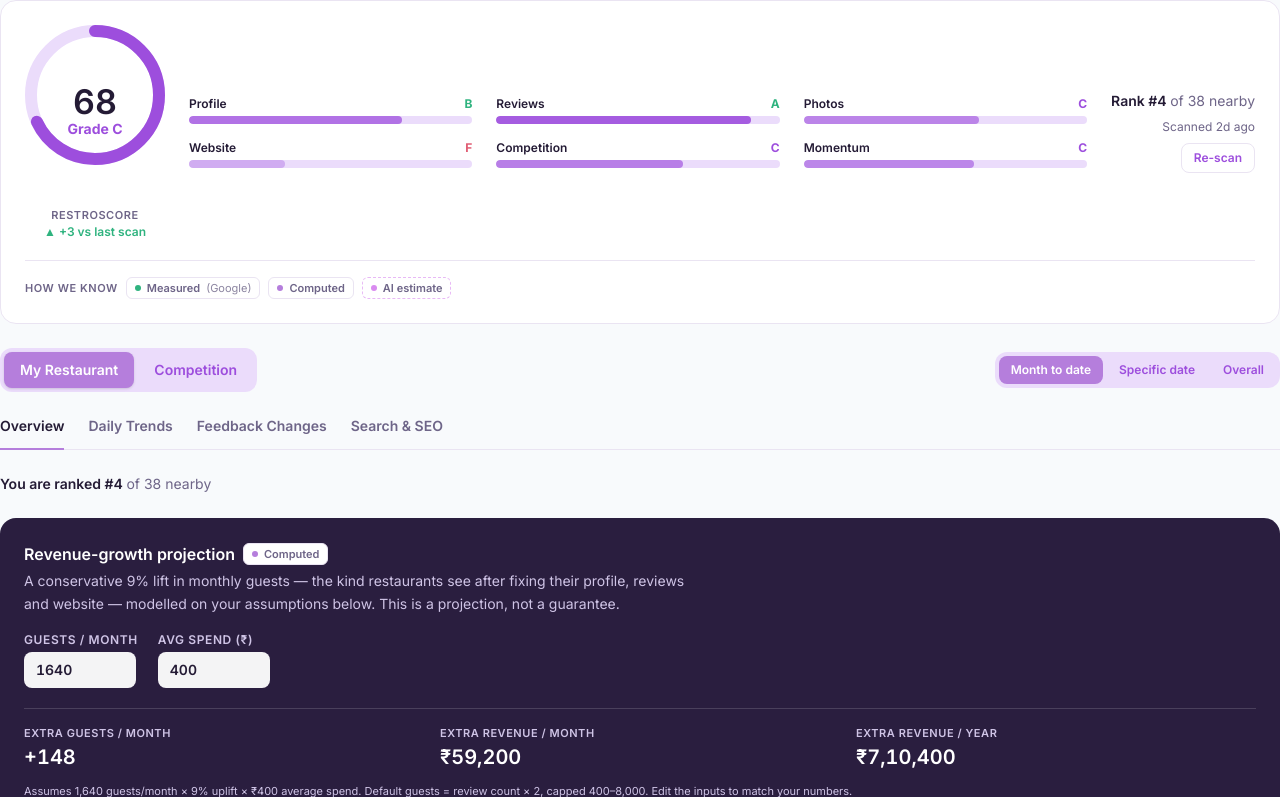
Test: IntelligenceV2 two-bucket dashboard › switching to the Competition bucket lands on Top Threats, then Watchlist is reachable
The image size is (1280, 797).
Check: the text "68" is shown, box [73,85,117,119]
Click the tab "Competition".
click(196, 370)  # box [138,352,253,388]
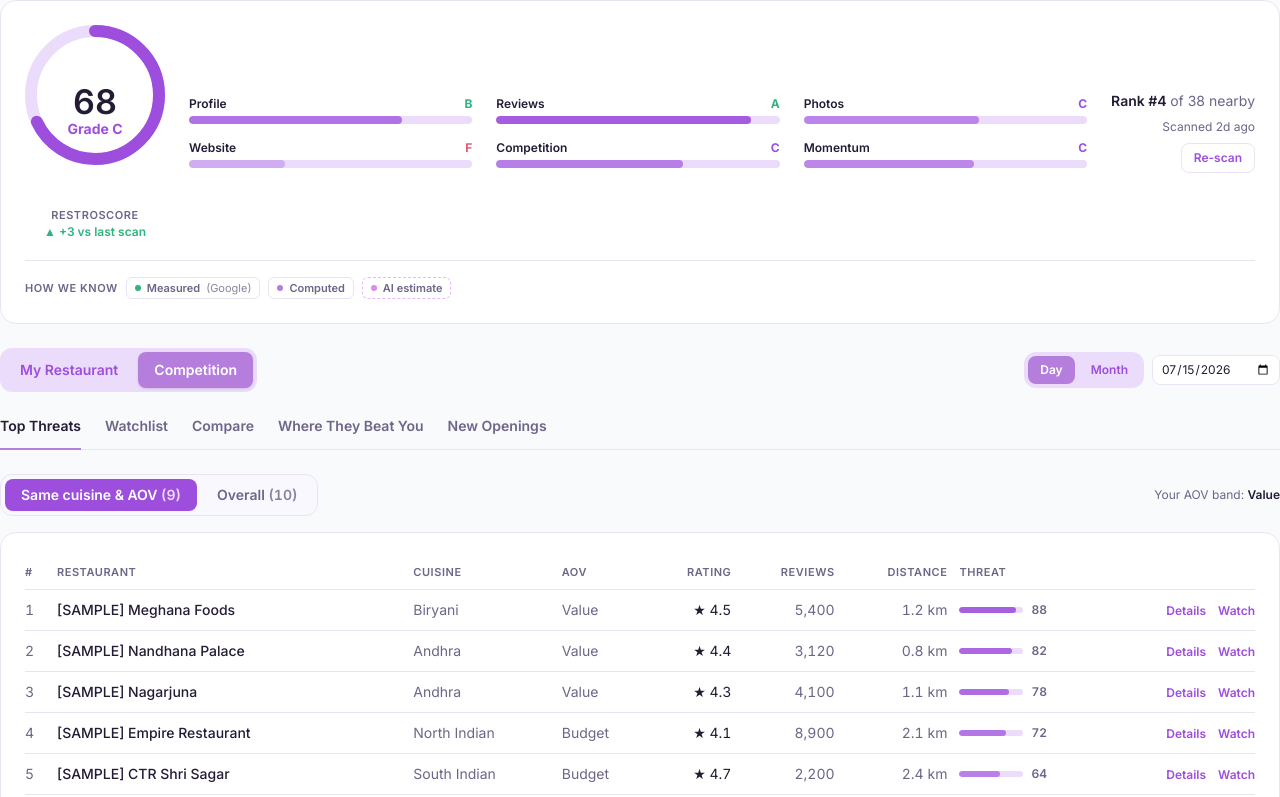
Top Threats is the first sub-tab (Brief 10).
Click the tab "Watchlist".
click(136, 433)  # box [105,416,168,450]
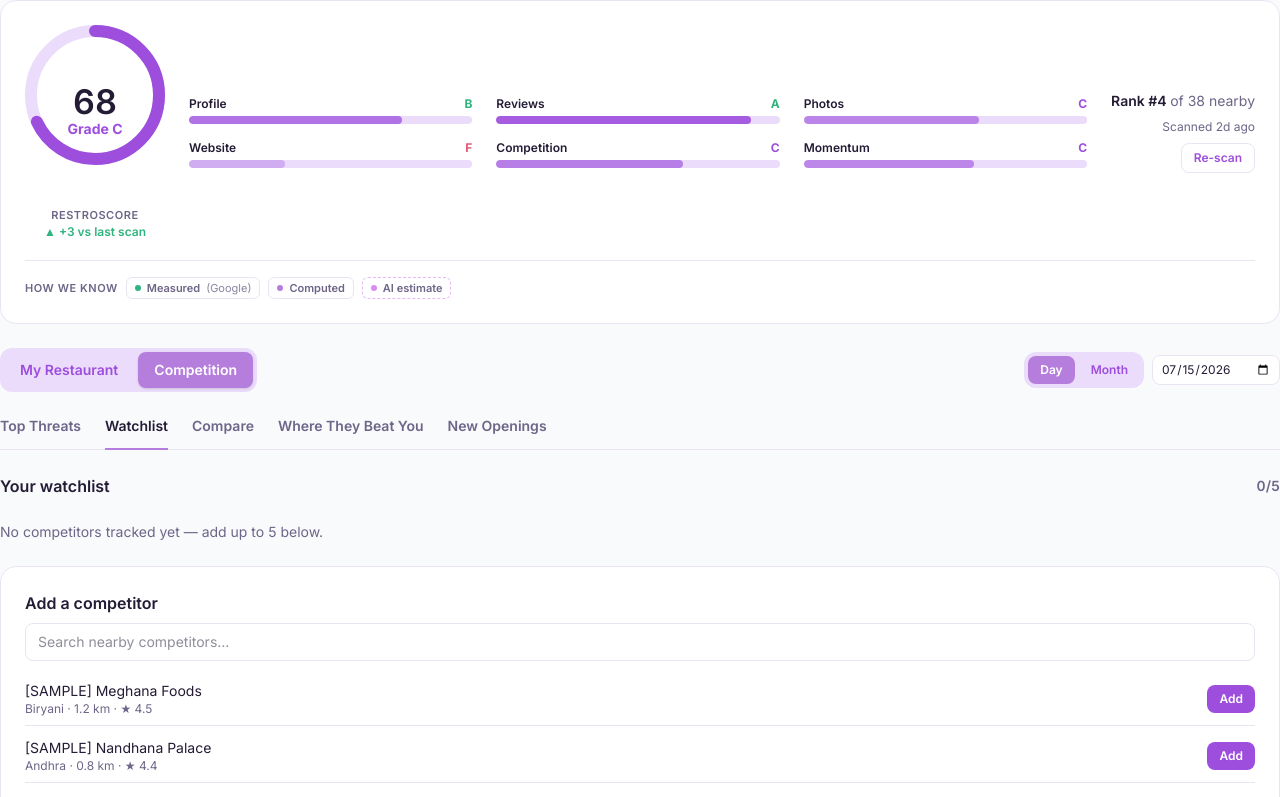
Check: the heading "Your watchlist" is shown, box [0,474,110,498]
